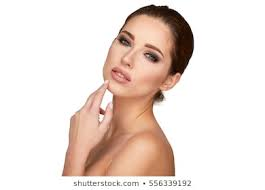white_female: (100, 6, 171, 110)
